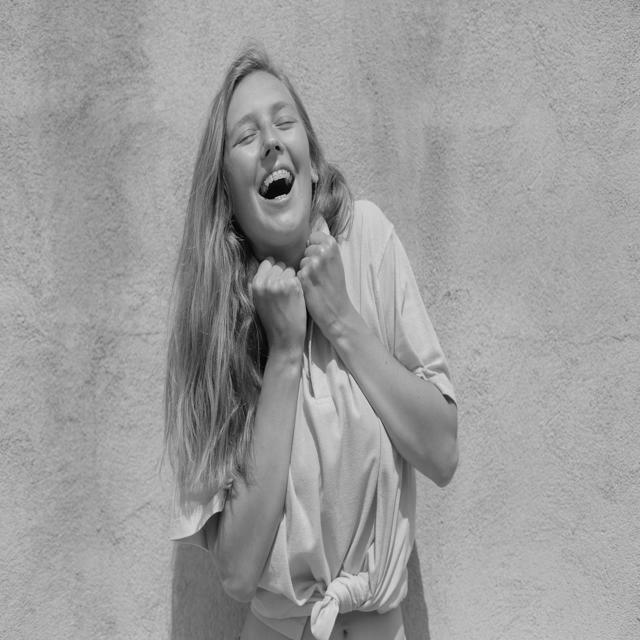Happiness: (223, 74, 317, 248)
